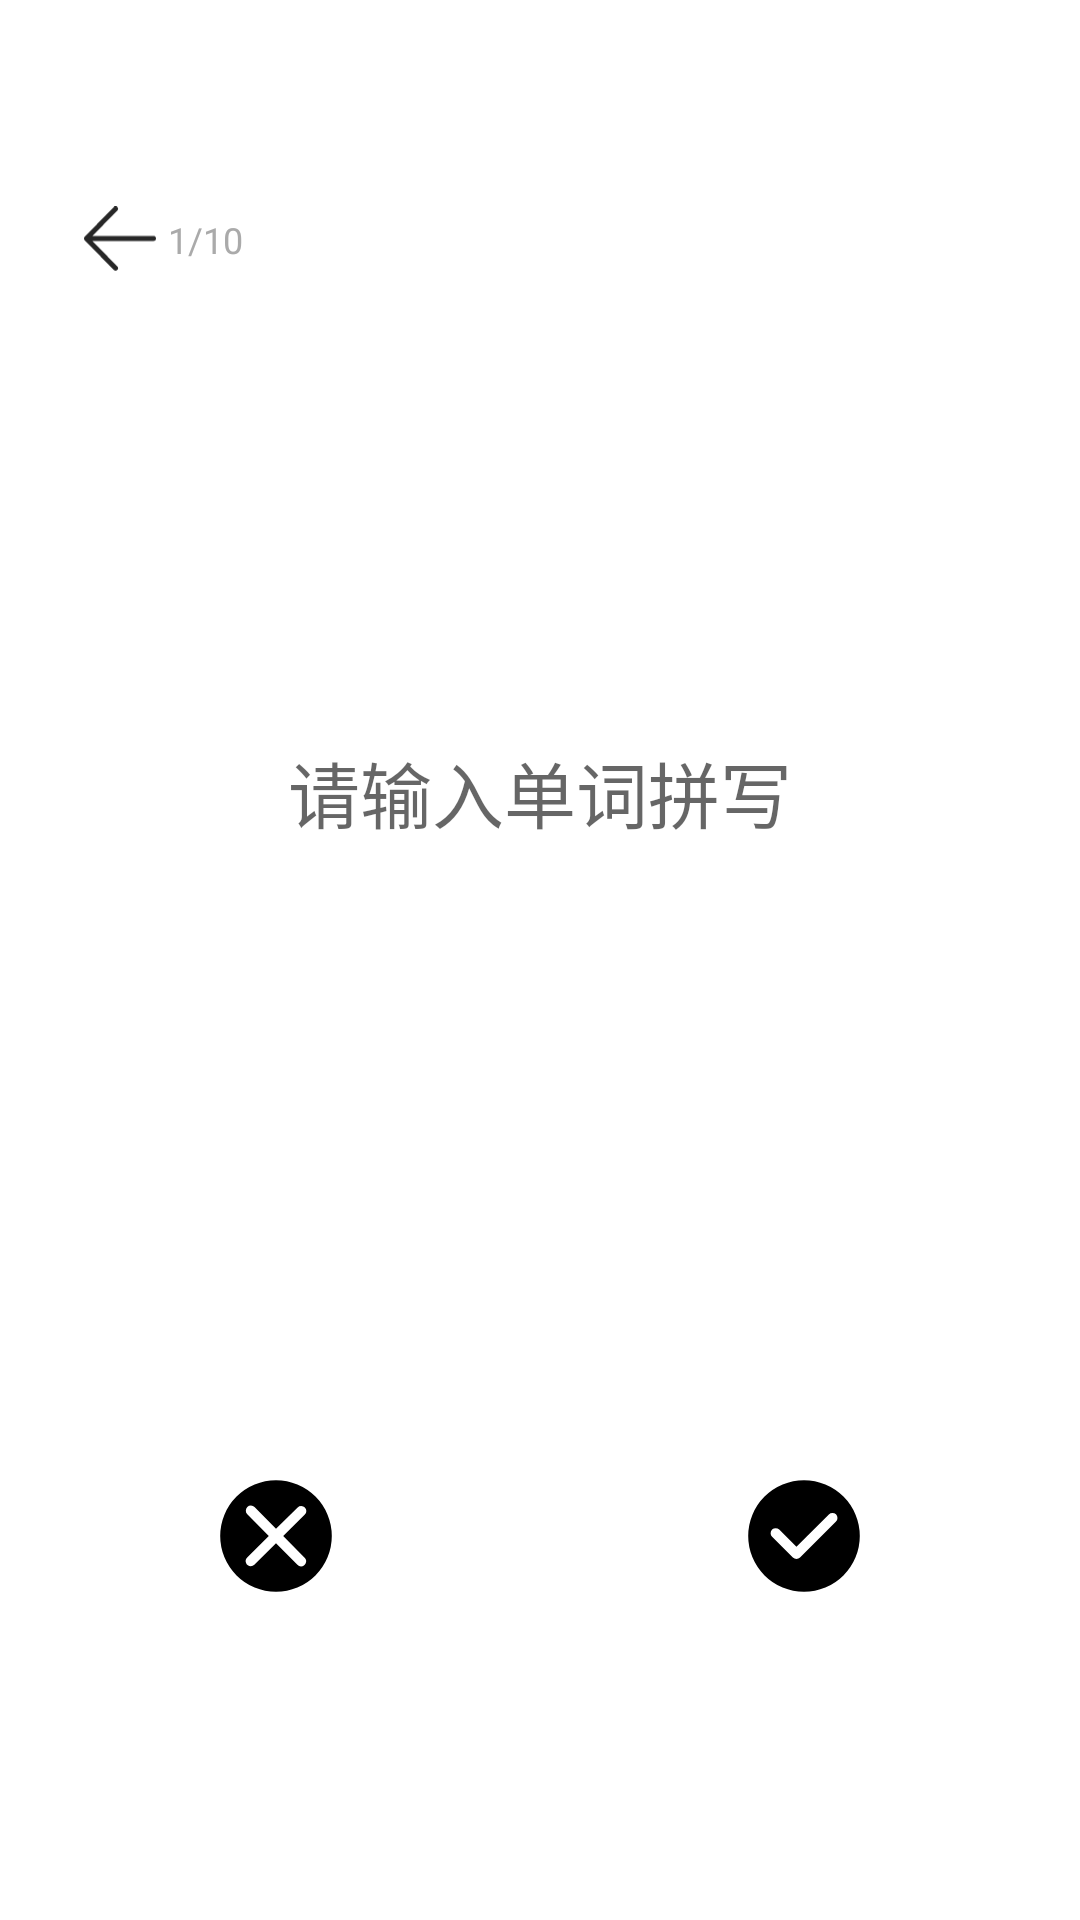

Where icons sit on this 1080x1920 app screen, as (x1, y1, x2, y2):
back: (84, 206, 181, 271)
right: (748, 1480, 860, 1592)
wrong: (220, 1480, 332, 1592)
